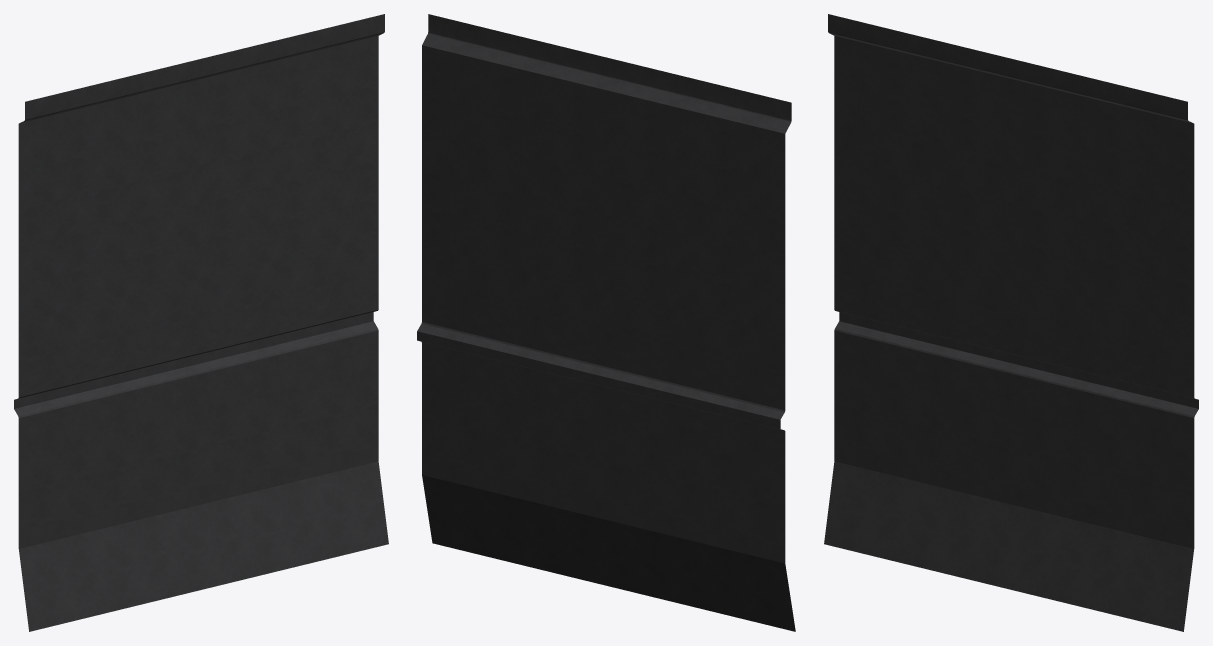
The model's file is M_Wall_Straight_10x14_v2.fbx.
3 views of the same model, side by side, from view 1: azimuth 30°, elevation 25°; view 2: azimuth 150°, elevation 25°; view 3: azimuth 330°, elevation 25° (orthographic).
Visible parts, largest first — view 1: Wall_Straight_10x14_v2; view 2: Wall_Straight_10x14_v2; view 3: Wall_Straight_10x14_v2.
Boxes of the visible parts, bbox=[...] form: Wall_Straight_10x14_v2: bbox=[14, 14, 388, 631]; Wall_Straight_10x14_v2: bbox=[417, 14, 795, 631]; Wall_Straight_10x14_v2: bbox=[824, 14, 1198, 631].
Bounding box in the file's own units: 1000 × 1400 × 73.02.
